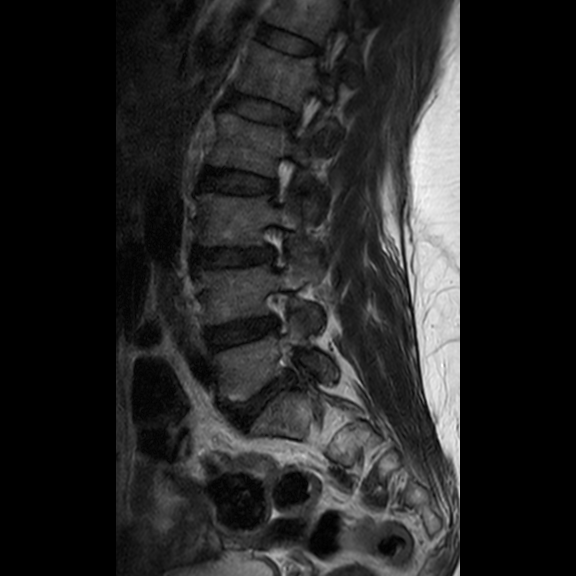LFS0: (252, 214, 300, 277), (275, 87, 328, 144), (250, 281, 298, 343), (259, 147, 307, 209)
